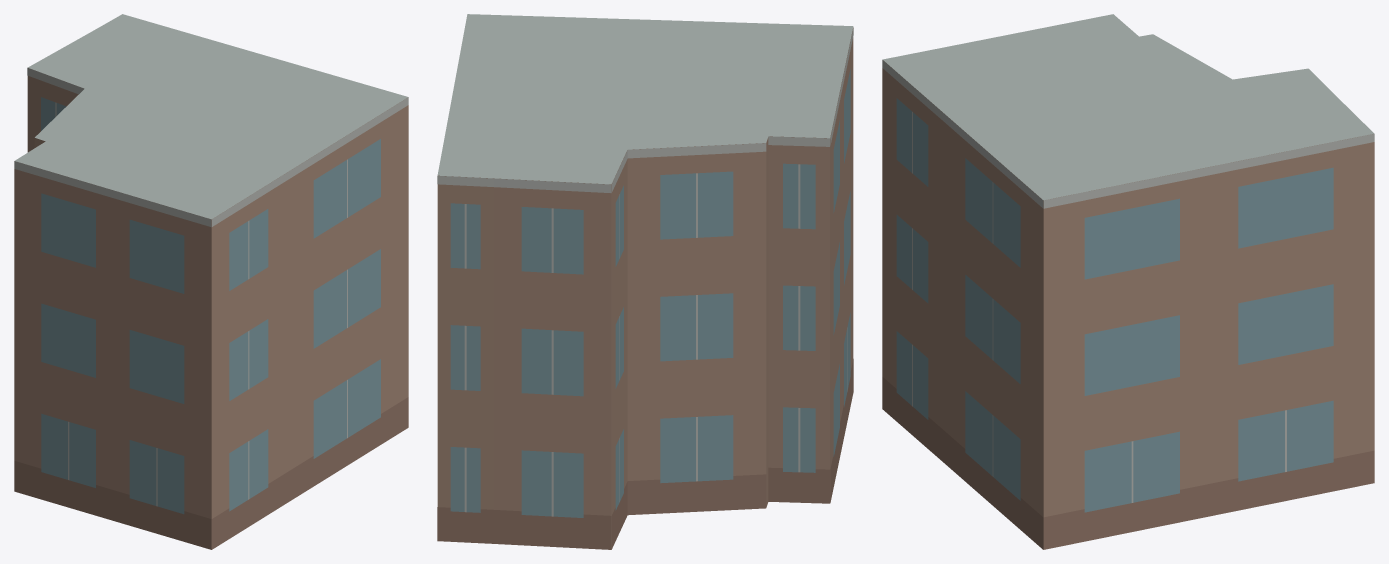
File: survey-upis-32625779.glb
3 renders of one model, left to right at view 1: azimuth 30°, elevation 25°; view 2: azimuth 150°, elevation 25°; view 3: azimuth 270°, elevation 25°, orthographic. The views are drawn at different scales.
Visible parts, largest first — view 1: survey-upis-32625779.tmp; view 2: survey-upis-32625779.tmp; view 3: survey-upis-32625779.tmp.
Part boxes in pixels (x1=…): survey-upis-32625779.tmp: x1=14, y1=14, x2=408, y2=549; survey-upis-32625779.tmp: x1=437, y1=14, x2=853, y2=549; survey-upis-32625779.tmp: x1=882, y1=14, x2=1374, y2=549.
Size of the model in its own units: 11.68 by 10.2 by 13.03.
